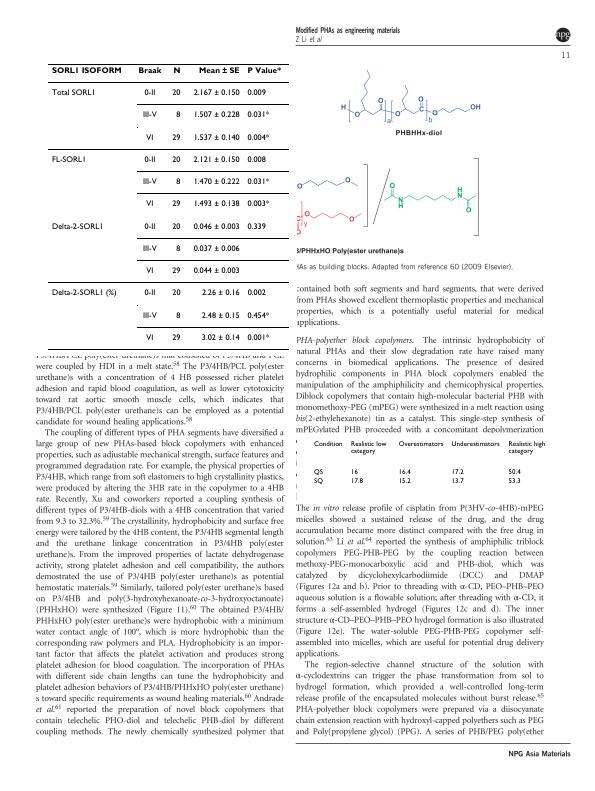borderless: (47, 62, 289, 349), (308, 438, 548, 496)
cell: (50, 289, 117, 299), (507, 440, 546, 456), (349, 440, 387, 456), (50, 222, 104, 232), (50, 67, 122, 74), (192, 111, 240, 121), (192, 133, 240, 143), (192, 155, 240, 165), (192, 177, 240, 187), (192, 200, 240, 210), (192, 222, 240, 232), (192, 244, 240, 254), (450, 440, 500, 449), (192, 89, 240, 98), (192, 267, 240, 276), (397, 440, 444, 449), (50, 89, 96, 98), (200, 289, 240, 299), (200, 311, 240, 321), (200, 333, 240, 343), (50, 155, 87, 165), (197, 67, 240, 74), (313, 440, 343, 449), (246, 67, 281, 74), (246, 111, 270, 121), (246, 133, 270, 143), (246, 177, 270, 187), (246, 200, 270, 210), (246, 311, 270, 321), (246, 333, 270, 343), (246, 155, 266, 165), (246, 222, 266, 232), (246, 289, 266, 299), (246, 89, 266, 98), (137, 67, 162, 74), (141, 111, 157, 121), (141, 177, 157, 187), (141, 244, 157, 254), (141, 311, 157, 321), (143, 155, 156, 165), (143, 222, 156, 232), (143, 289, 156, 299), (397, 468, 411, 477), (450, 468, 464, 477), (507, 468, 521, 477), (349, 477, 363, 486), (397, 477, 411, 486), (450, 477, 464, 486), (507, 477, 521, 486), (143, 89, 156, 98), (171, 133, 181, 143), (171, 155, 181, 165), (171, 200, 181, 210), (171, 222, 181, 232), (171, 289, 181, 299), (171, 333, 181, 343), (171, 89, 181, 98), (145, 133, 154, 143), (145, 200, 154, 210), (171, 267, 181, 276), (145, 333, 154, 343), (313, 468, 323, 477), (313, 477, 323, 486), (145, 267, 154, 276), (349, 468, 358, 477), (172, 67, 181, 74), (175, 111, 181, 121), (175, 177, 181, 187), (175, 244, 181, 254), (175, 311, 181, 321)
